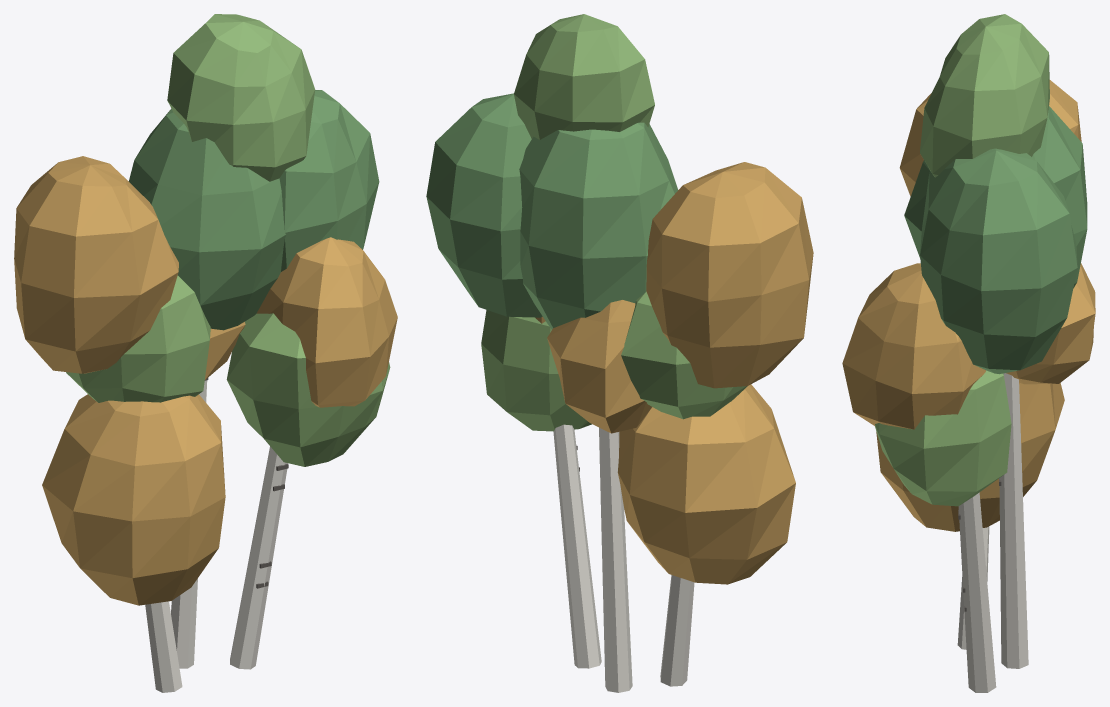
Rendered from tree_birch.glb.
3 renders of one model, left to right at view 1: azimuth 30°, elevation 25°; view 2: azimuth 150°, elevation 25°; view 3: azimuth 270°, elevation 25°, orthographic. The views are drawn at different scales.
Visible parts, largest first — view 1: tree_birch; view 2: tree_birch; view 3: tree_birch.
Part boxes in pixels (box(x1,y1,x2,y2)): tree_birch: box(14, 14, 397, 692); tree_birch: box(426, 14, 813, 692); tree_birch: box(842, 14, 1095, 692).
Size of what is drawn, in the model's own units: 3.87 by 6.68 by 2.31.
